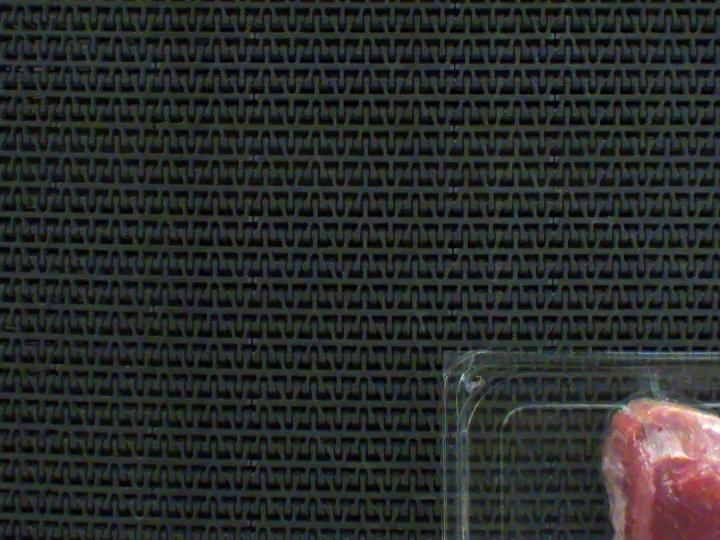unsealed: (599, 354, 720, 479)
